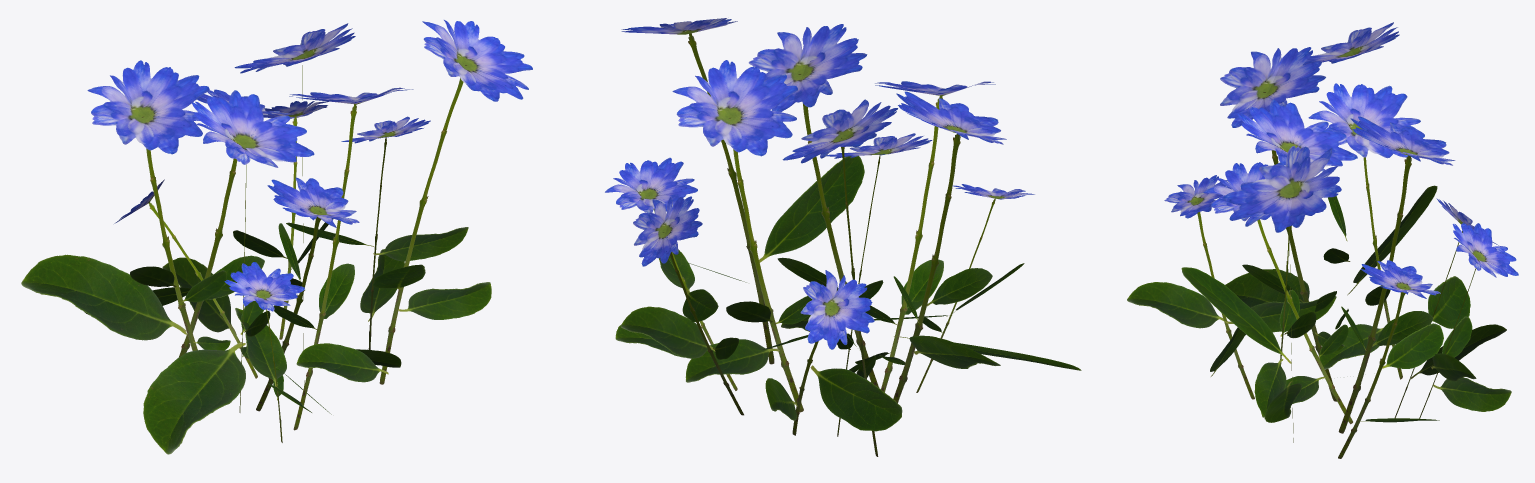
File: BlueFlower.fbx
3 views of the same model, side by side, from view 1: azimuth 30°, elevation 25°; view 2: azimuth 150°, elevation 25°; view 3: azimuth 270°, elevation 25° (orthographic). The views are drawn at different scales.
Parts seen in each view (by area): view 1: Leaf3.039; view 2: Leaf3.039; view 3: Leaf3.039.
Boxes of the visible parts, x1,y1,x2,y2 form: Leaf3.039: (21,20,532,454); Leaf3.039: (605,18,1081,456); Leaf3.039: (1127,22,1518,458).
Bounding box in the file's own units: 58.05 × 46.8 × 45.63.
